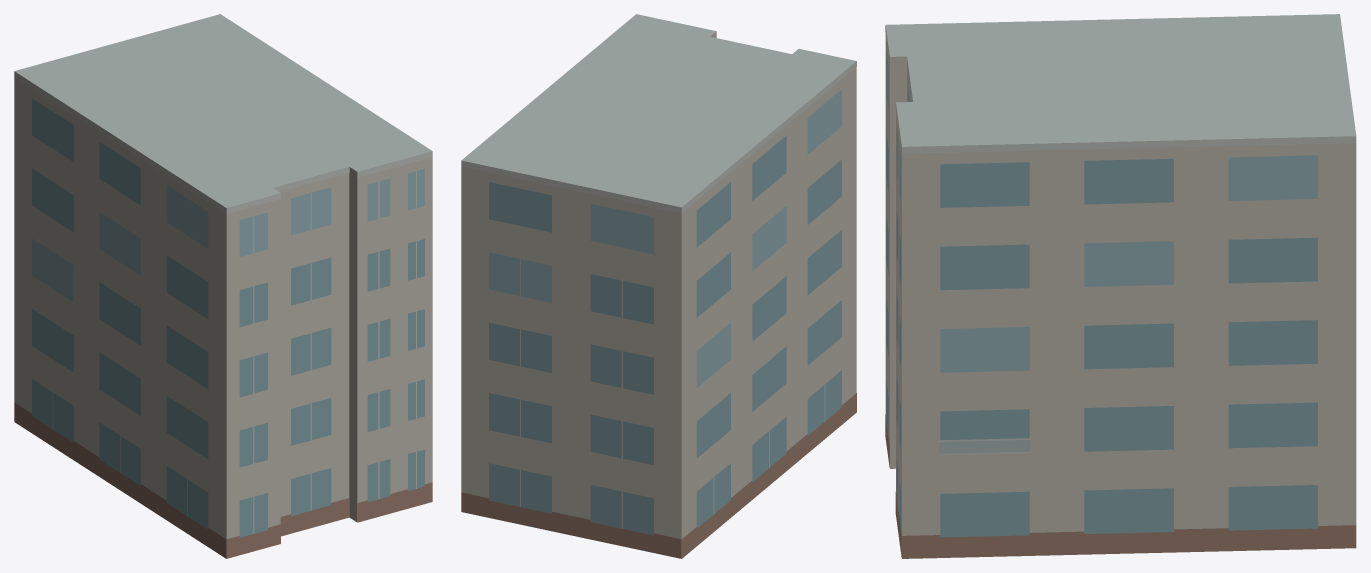
File: survey-upis-32577432.glb
3 views of the same model, side by side, from view 1: azimuth 30°, elevation 25°; view 2: azimuth 150°, elevation 25°; view 3: azimuth 270°, elevation 25° (orthographic). The views are drawn at different scales.
Parts seen in each view (by area): view 1: survey-upis-32577432.tmp; view 2: survey-upis-32577432.tmp; view 3: survey-upis-32577432.tmp.
Boxes of the visible parts, bbox=[...] form: survey-upis-32577432.tmp: bbox=[14, 14, 432, 558]; survey-upis-32577432.tmp: bbox=[461, 14, 856, 558]; survey-upis-32577432.tmp: bbox=[885, 14, 1356, 558].
Bounding box in the file's own units: 10.08 × 14.55 × 15.08.
